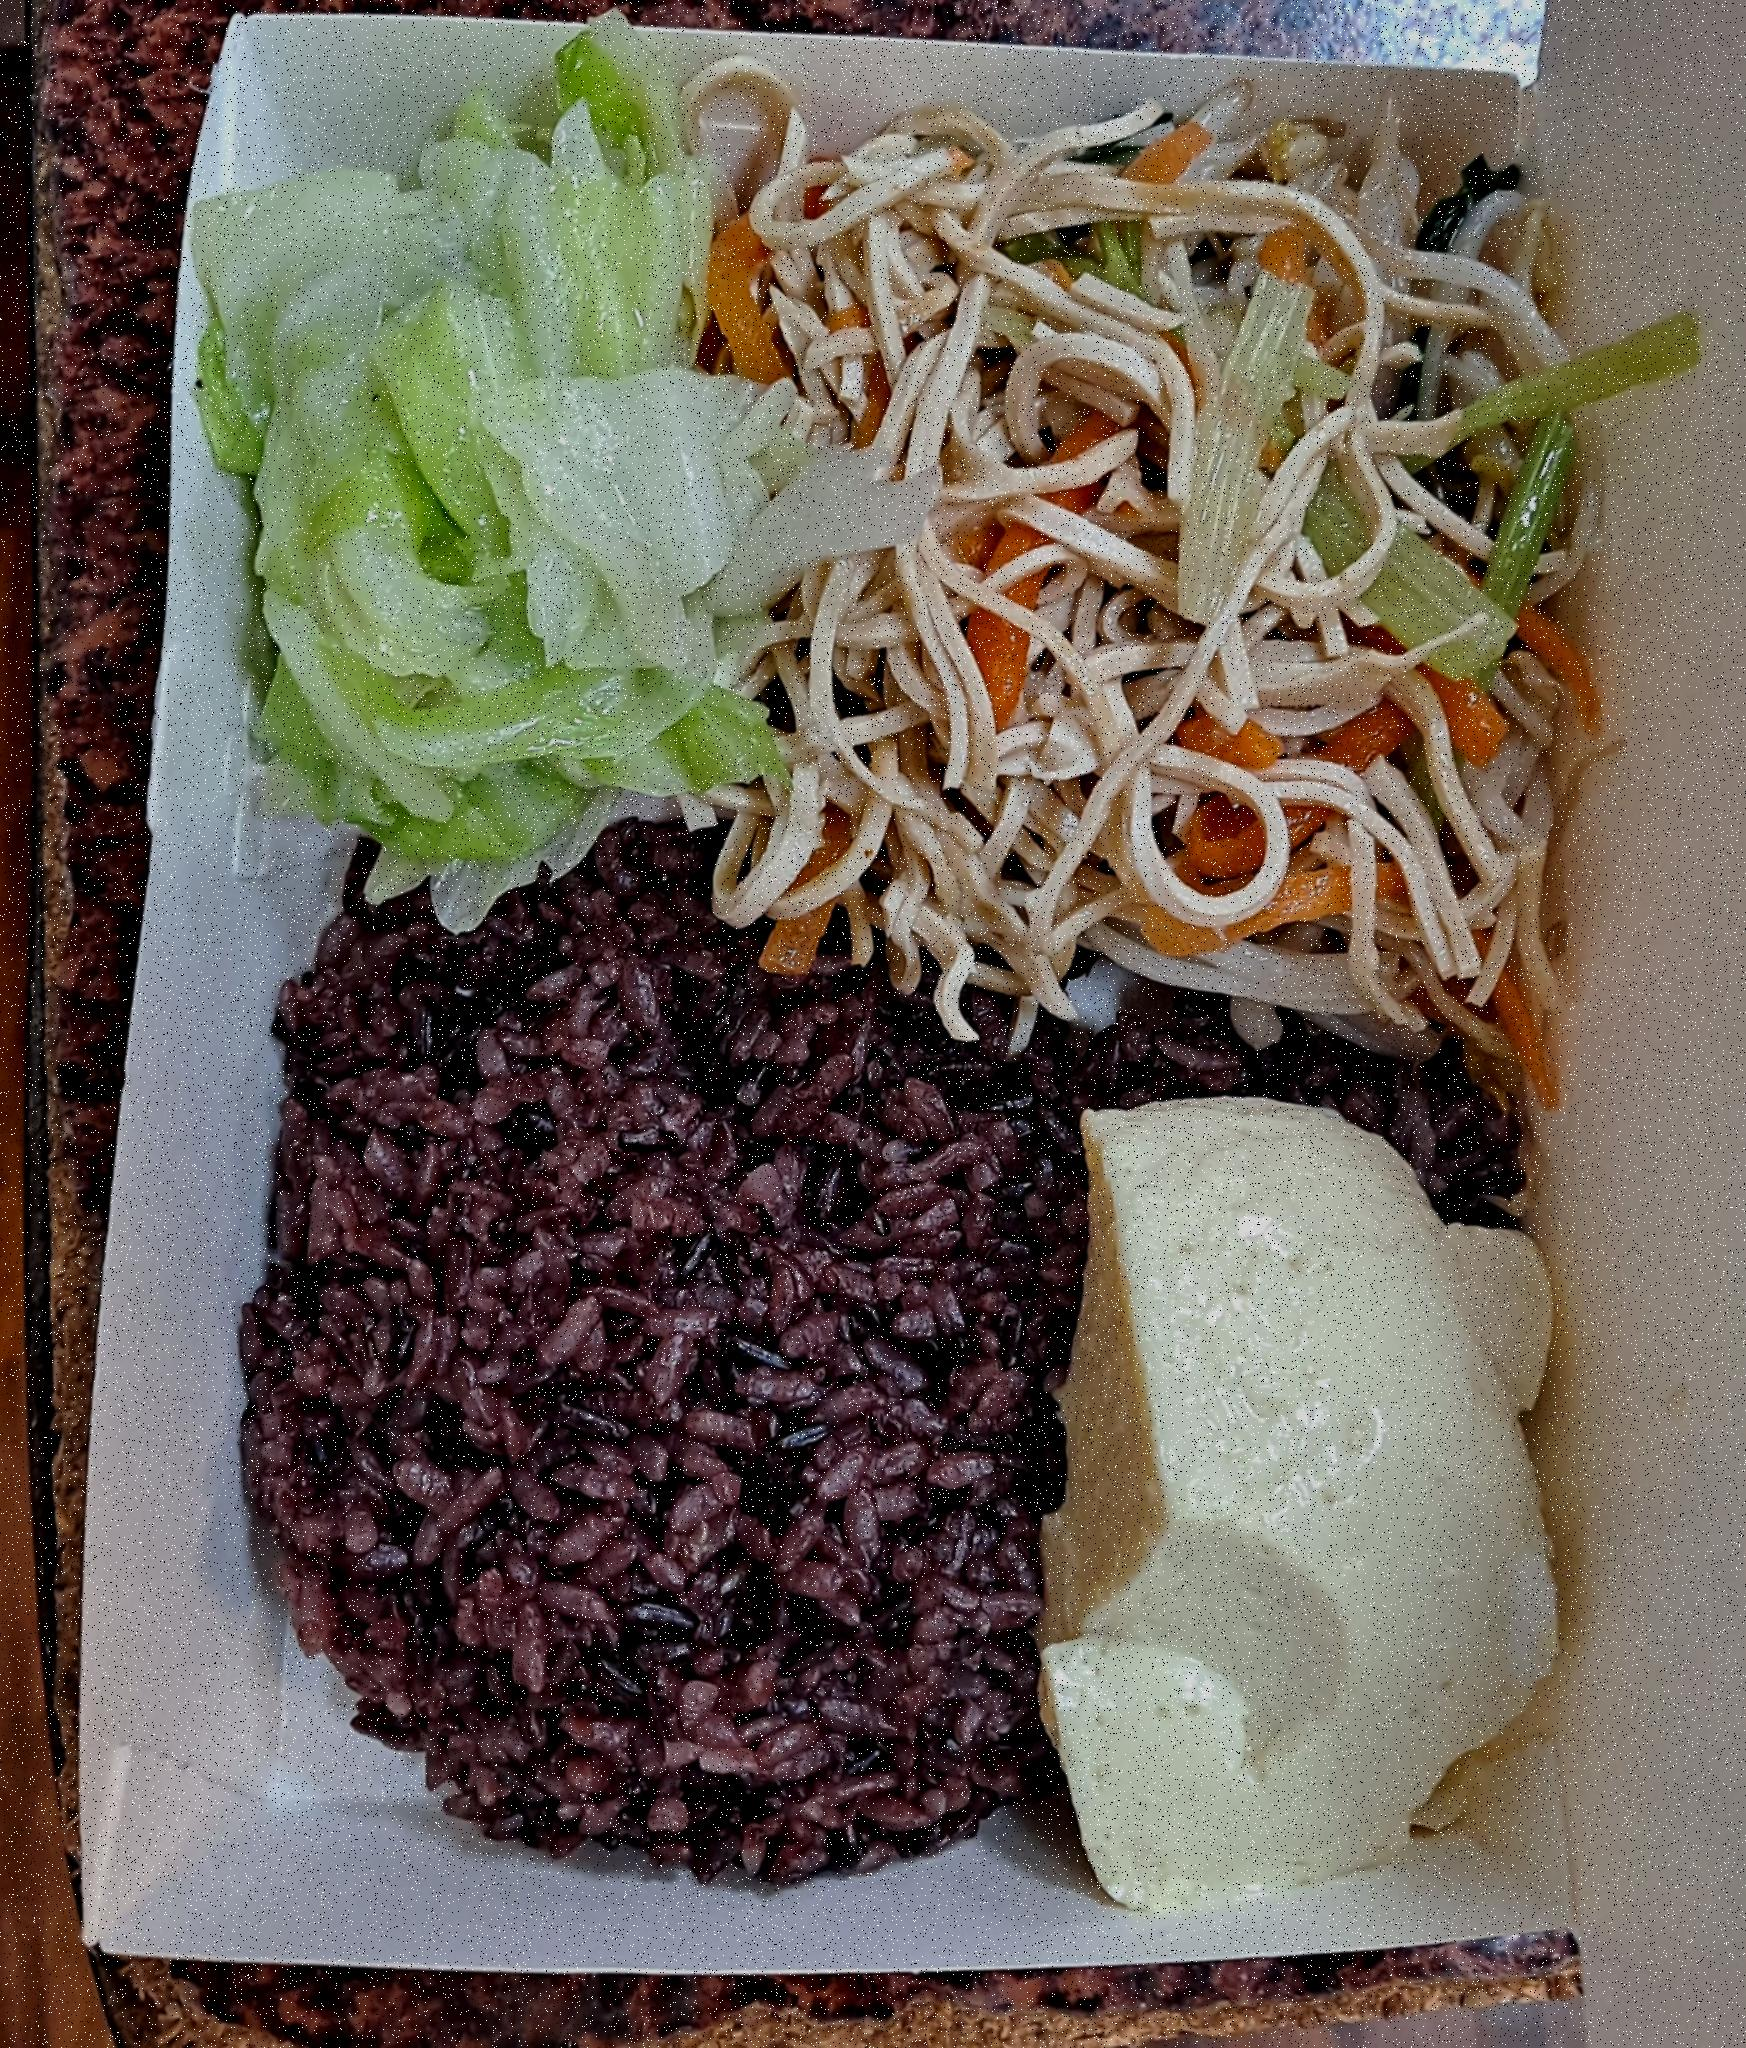big grilled chicken leg: (57, 2, 1639, 2005)
braised fish: (227, 839, 1505, 1875)
braised fish fillet: (719, 87, 1595, 1034), (185, 47, 811, 918), (1034, 1090, 1581, 1923)
